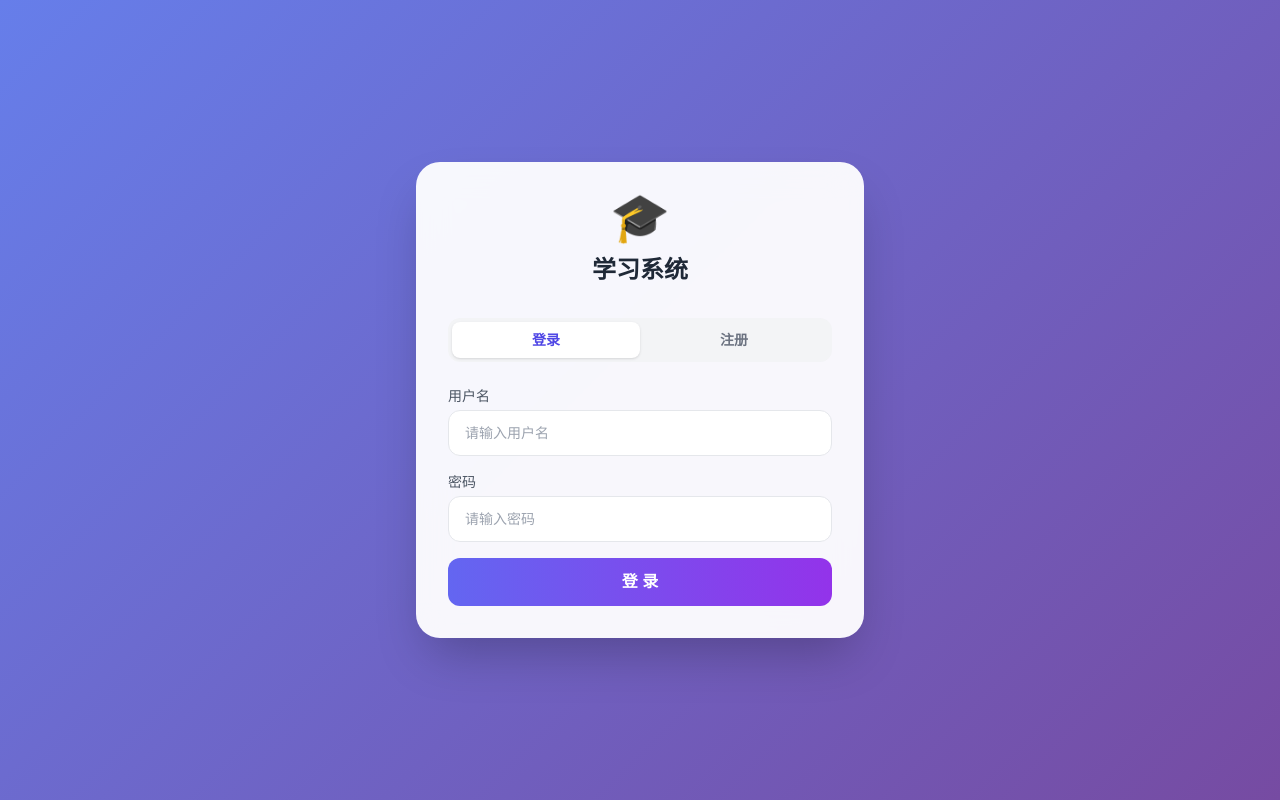
Login 页面测试 › 6. 网络错误时显示提示
Type "test" into the field with placeholder "请输入用户名". click: {"x": 640, "y": 433}
box: [448,410,832,456]
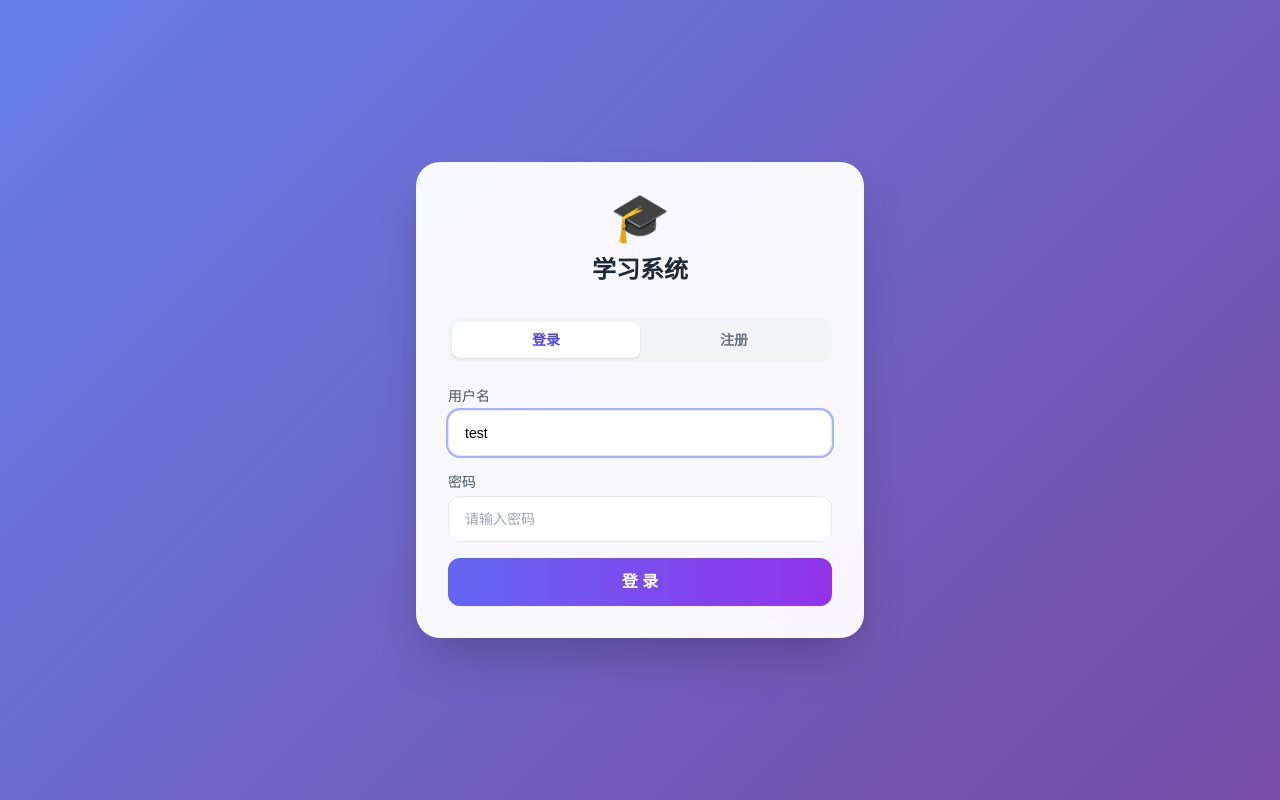
Type "test" into the password field with placeholder "请输入密码". click: {"x": 640, "y": 519}
box: [448,496,832,542]
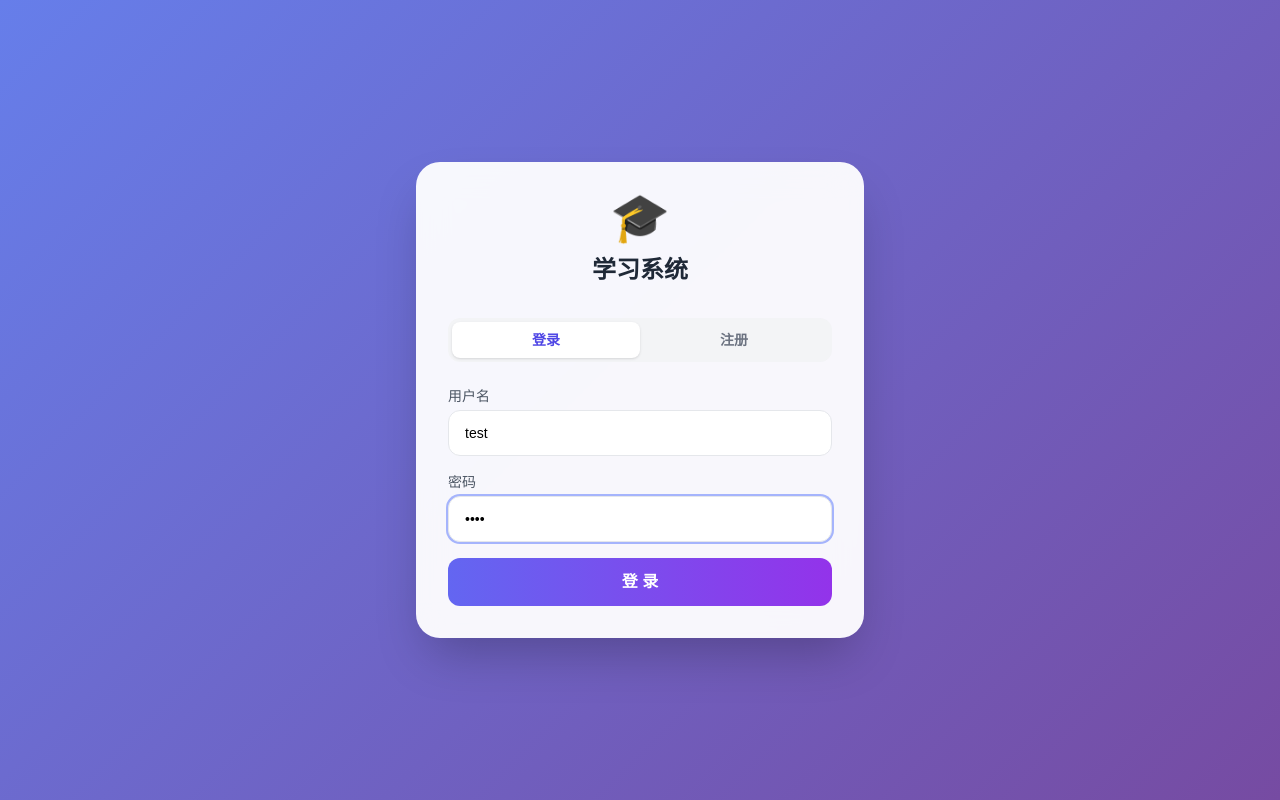
Click the button "登 录". click: {"x": 640, "y": 582}
box: [448,558,832,606]
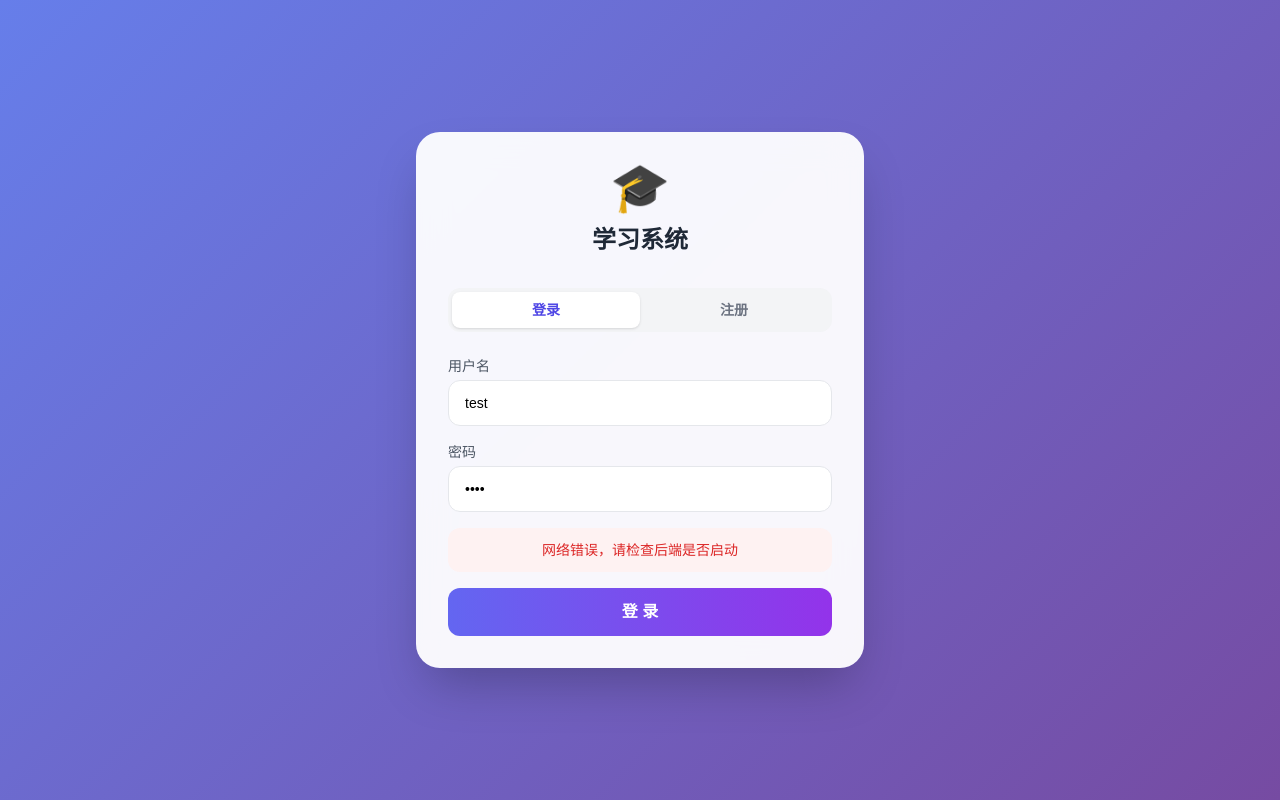
expect the text "网络错误，请检查后端是否启动" is shown: met, box [448,528,832,572]
